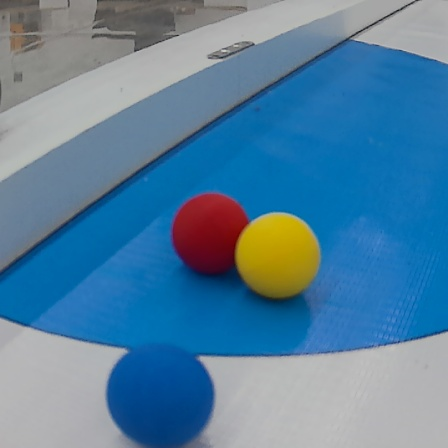blue: (95, 334, 221, 448)
blue_base: (2, 35, 448, 362)
red: (170, 195, 257, 285)
yellow: (234, 209, 323, 301)
